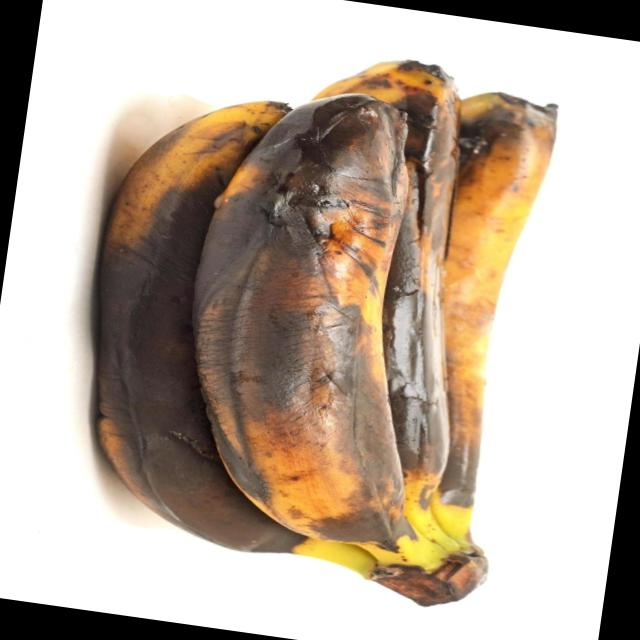banana_peel: (49, 51, 587, 625)
